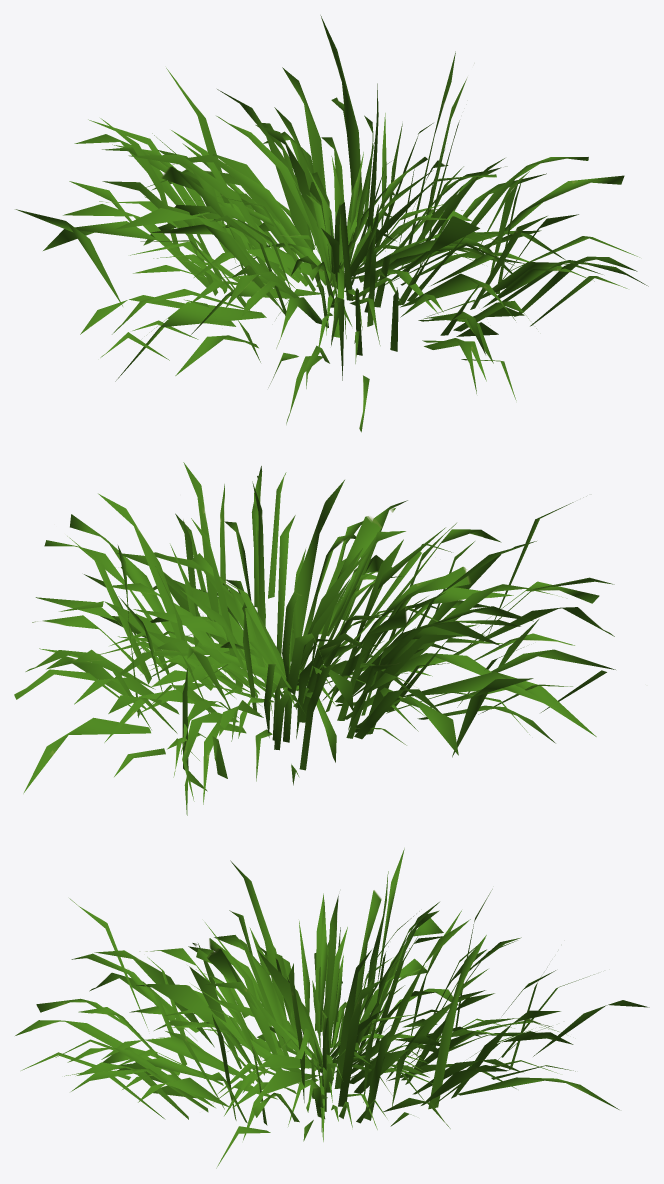
File: grass(stripped).glb
3 renders of one model, top to bottom at view 1: azimuth 30°, elevation 25°; view 2: azimuth 150°, elevation 25°; view 3: azimuth 270°, elevation 25°, orthographic. The views are drawn at different scales.
Visible parts, largest first — view 1: grass_Shape; view 2: grass_Shape; view 3: grass_Shape.
Boxes of the visible parts, x1,y1,x2,y2 form: grass_Shape: (15,15,648,432); grass_Shape: (14,462,615,815); grass_Shape: (15,848,649,1168).
Size of the model in its own units: 3.47 by 1.2 by 3.92.
1 material, 1 textured.
